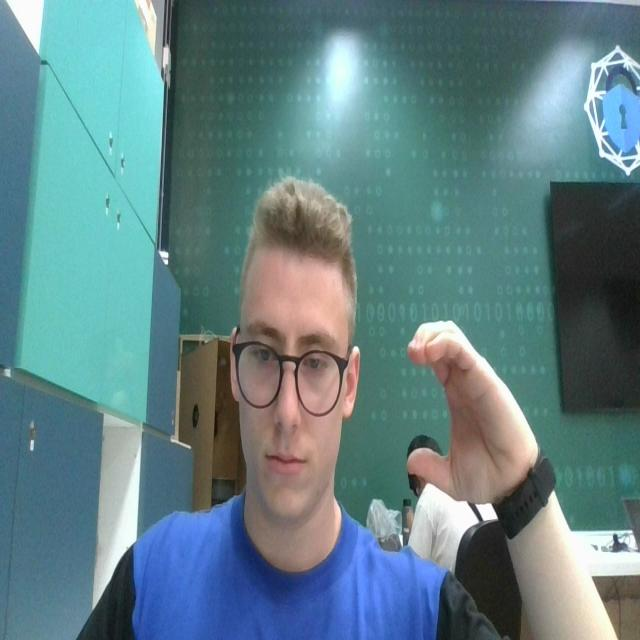C: (402, 313, 526, 501)
